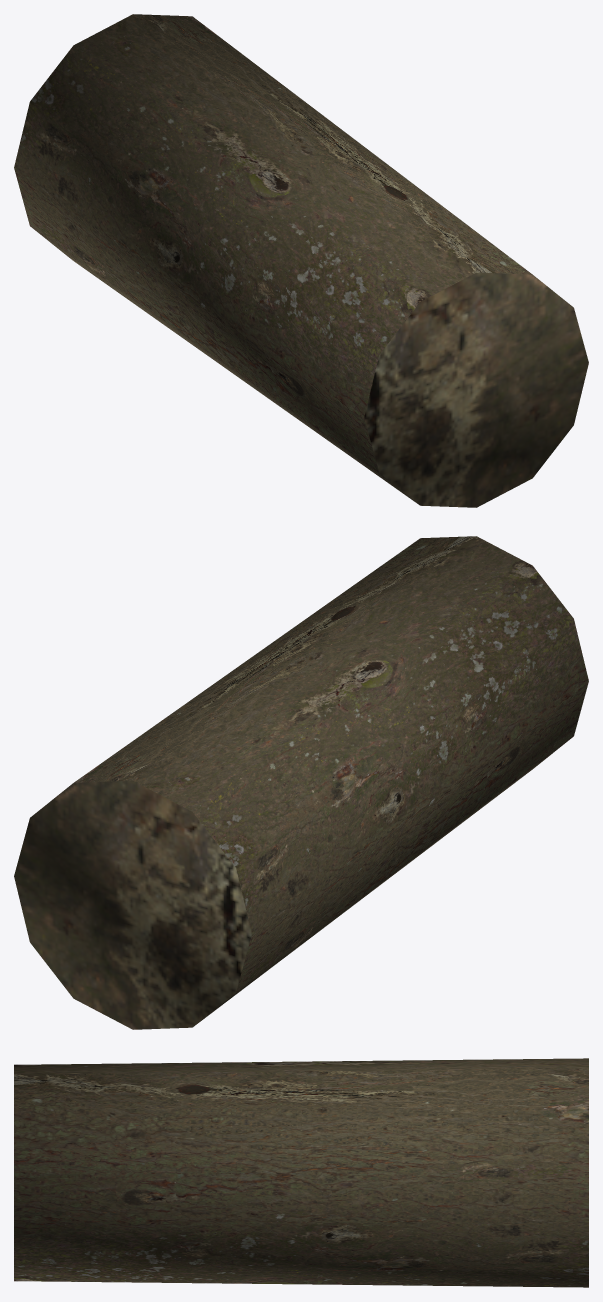
The model's file is SM_Item_wood.gltf.
The picture shows the model from 3 angles, top to bottom: view 1: azimuth 30°, elevation 25°; view 2: azimuth 150°, elevation 25°; view 3: azimuth 270°, elevation 25°; orthographic projection. The views are drawn at different scales.
Visible parts, largest first — view 1: SM_Item_wood; view 2: SM_Item_wood; view 3: SM_Item_wood.
Boxes of the visible parts, box(x1,y1,x2,y2) form: SM_Item_wood: box(14, 14, 588, 507); SM_Item_wood: box(14, 536, 588, 1029); SM_Item_wood: box(14, 1058, 588, 1287).
Bounding box in the file's own units: 0.18 × 0.18 × 0.45.
1 material, 1 textured.
